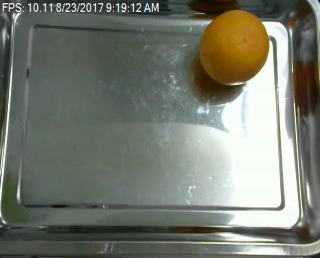Orange: (199, 9, 269, 86)
